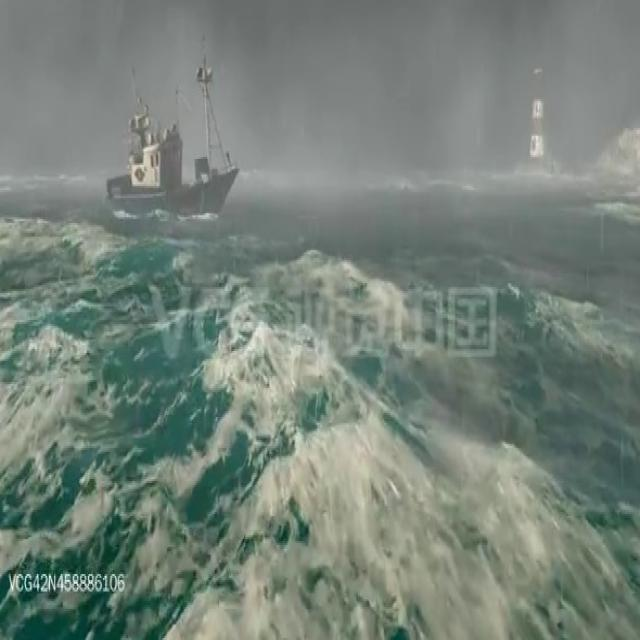fishing boat: (104, 44, 243, 209)
